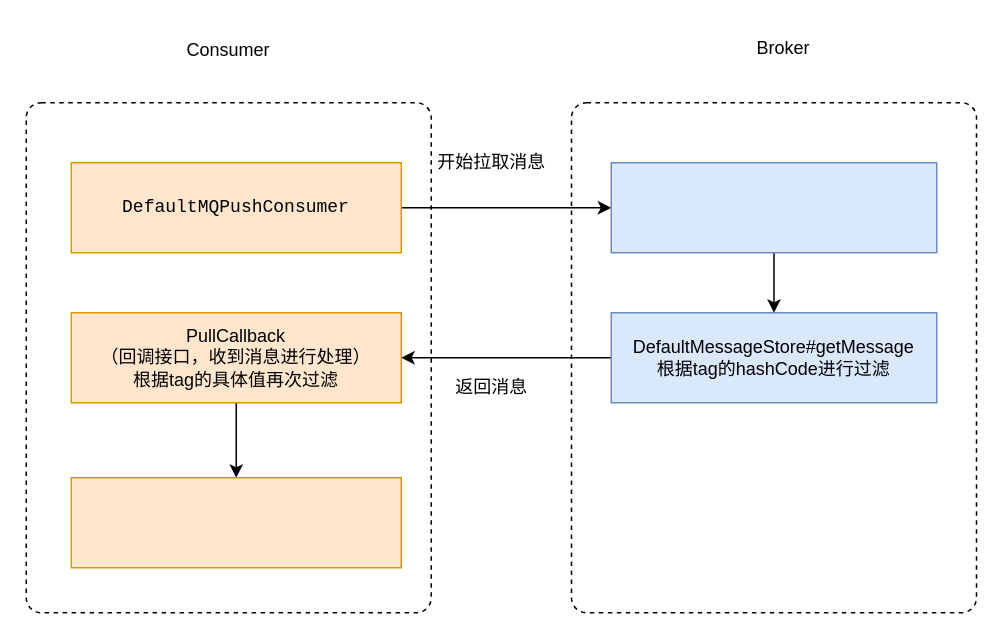
The diagram is 1004 pixels wide and 639 high, and some of its shapes have lost their labels. The box of each missing label's shape, as (x1, y1, x2, y2) in pixels:
PullMessageProcessor 处理消息拉取请求: (610, 161, 937, 253)
将过滤后的消息传入 MessageListener 开始消费消息: (70, 476, 401, 568)
